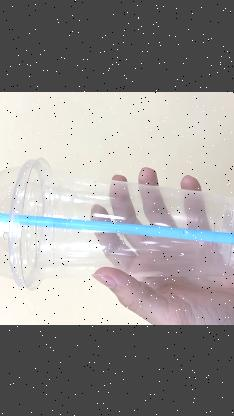Others: (0, 155, 234, 289)
